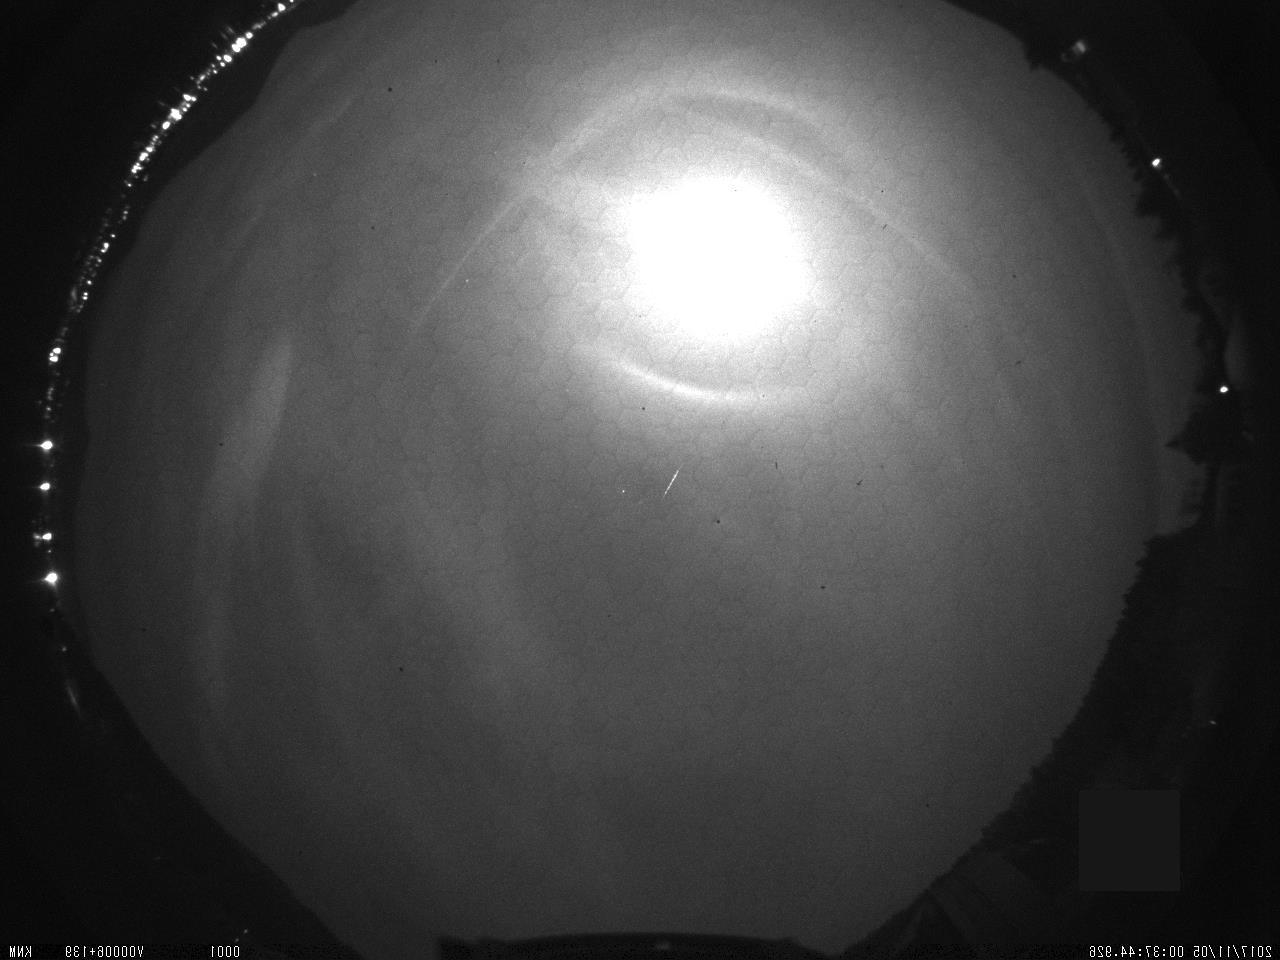meteor: (645, 458, 696, 510)
